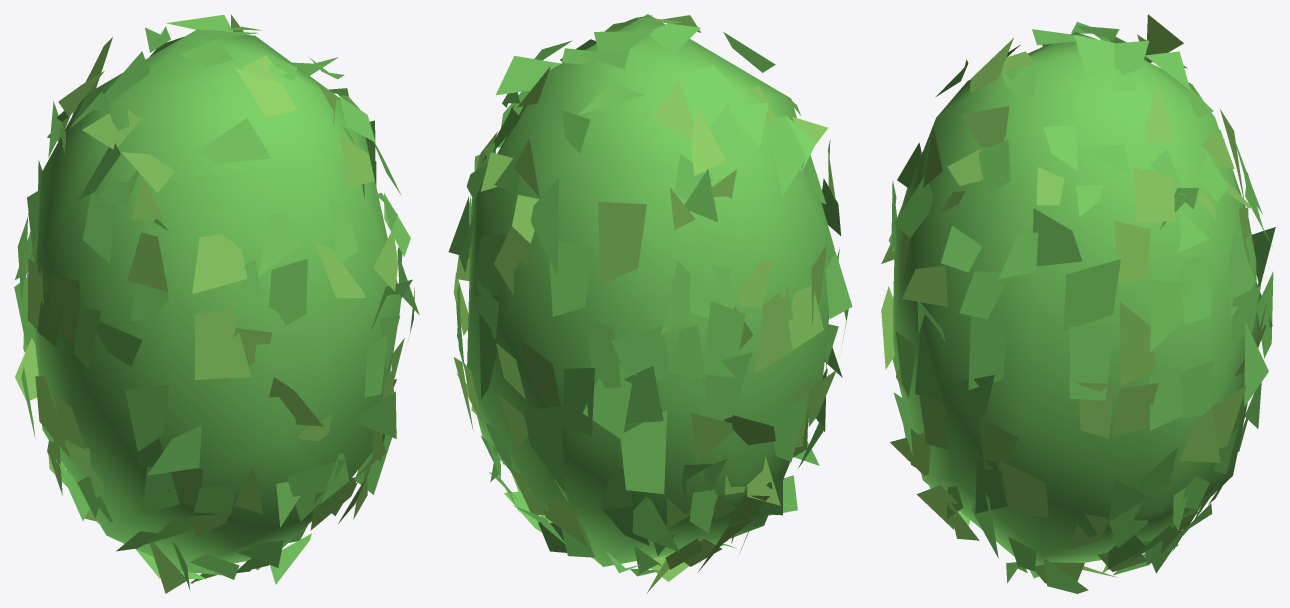
File: Bush_Tall_Oval.fbx
3 renders of one model, left to right at view 1: azimuth 30°, elevation 25°; view 2: azimuth 150°, elevation 25°; view 3: azimuth 270°, elevation 25°, orthographic.
Parts seen in each view (by area): view 1: Bush.001; view 2: Bush.001; view 3: Bush.001.
Part boxes in pixels (<box>): Bush.001: <box>14,14,419,593</box>; Bush.001: <box>448,14,852,592</box>; Bush.001: <box>881,14,1275,593</box>.
Size of the model in its own units: 183 by 273 by 179.
